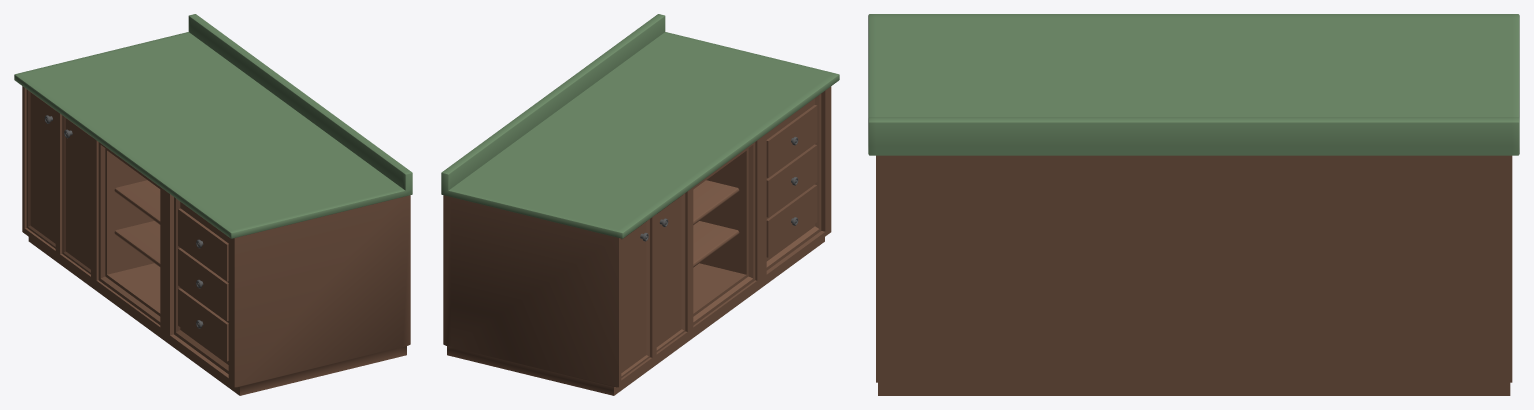
The picture shows the model from 3 angles, left to right: view 1: azimuth 30°, elevation 25°; view 2: azimuth 150°, elevation 25°; view 3: azimuth 270°, elevation 25°; orthographic projection. The views are drawn at different scales.
Parts seen in each view (by area): view 1: Counter_low; view 2: Counter_low; view 3: Counter_low.
Part boxes in pixels (left/top/right/bottom): Counter_low: left=14, top=14, right=412, bottom=395; Counter_low: left=441, top=14, right=839, bottom=395; Counter_low: left=868, top=14, right=1519, bottom=395.
Size of the model in its own units: 899 by 871 by 1859.
